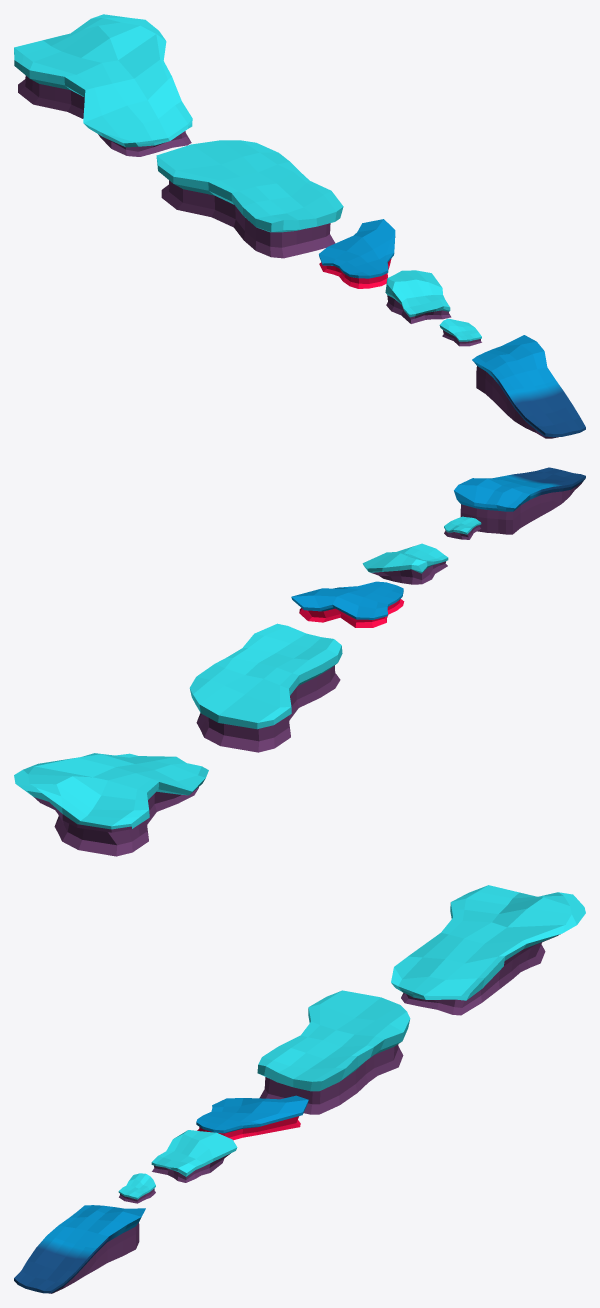
File: Low_Poly_Terrain_Collection.glb
3 renders of one model, top to bottom at view 1: azimuth 30°, elevation 25°; view 2: azimuth 150°, elevation 25°; view 3: azimuth 330°, elevation 25°, orthographic.
Parts seen in each view (by area): view 1: Terrain.003_Material_0, Terrain.004_Material_0, Terrain.005_Material_0, Terrain.002_Material_0, Terrain_Material_0, Terrain.001_Material_0; view 2: Terrain.004_Material_0, Terrain.003_Material_0, Terrain.005_Material_0, Terrain.002_Material_0, Terrain_Material_0, Terrain.001_Material_0; view 3: Terrain.003_Material_0, Terrain.004_Material_0, Terrain.005_Material_0, Terrain.002_Material_0, Terrain_Material_0, Terrain.001_Material_0.
Boxes of the visible parts, left/top/right/bottom form: Terrain.003_Material_0: left=14, top=14, right=192, bottom=156; Terrain.004_Material_0: left=156, top=140, right=343, bottom=258; Terrain.005_Material_0: left=472, top=335, right=585, bottom=438; Terrain.002_Material_0: left=319, top=219, right=395, bottom=288; Terrain_Material_0: left=385, top=270, right=451, bottom=323; Terrain.001_Material_0: left=439, top=318, right=481, bottom=346; Terrain.004_Material_0: left=189, top=623, right=342, bottom=752; Terrain.003_Material_0: left=14, top=753, right=208, bottom=856; Terrain.005_Material_0: left=454, top=467, right=585, bottom=534; Terrain.002_Material_0: left=291, top=581, right=404, bottom=627; Terrain_Material_0: left=362, top=543, right=448, bottom=584; Terrain.001_Material_0: left=444, top=516, right=481, bottom=539; Terrain.003_Material_0: left=391, top=885, right=585, bottom=1015; Terrain.004_Material_0: left=257, top=990, right=410, bottom=1114; Terrain.005_Material_0: left=14, top=1205, right=145, bottom=1293; Terrain.002_Material_0: left=196, top=1095, right=308, bottom=1140; Terrain_Material_0: left=151, top=1130, right=237, bottom=1182; Terrain.001_Material_0: left=118, top=1173, right=155, bottom=1203.
Bounding box in the file's own units: 1230 × 488 × 8419.
1 material, 1 textured.
